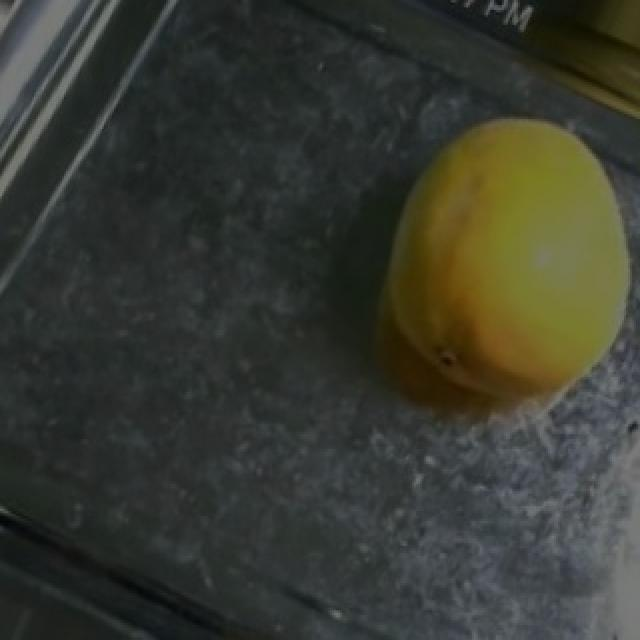fruit: (352, 74, 640, 439)
